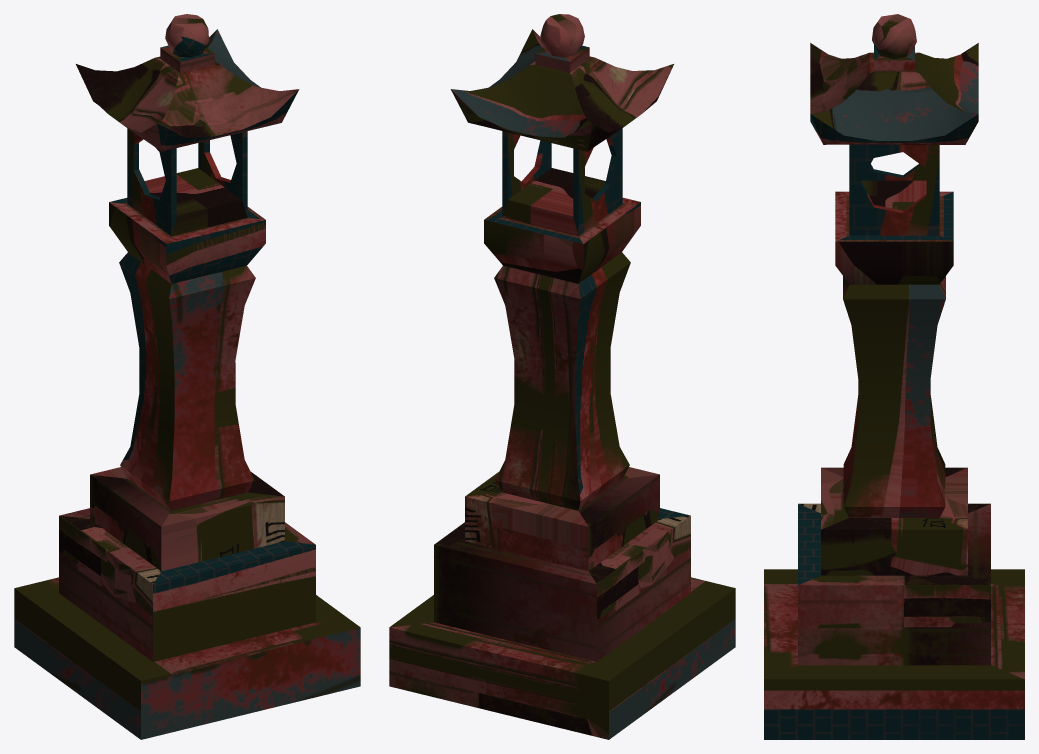
File: PILAR COM LOD.fbx
3 views of the same model, side by side, from view 1: azimuth 30°, elevation 25°; view 2: azimuth 150°, elevation 25°; view 3: azimuth 270°, elevation 25° (orthographic). The views are drawn at different scales.
Visible parts, largest first — view 1: Pilar_LOD0; view 2: Pilar_LOD0; view 3: Pilar_LOD0.
Part boxes in pixels (x1,y1,x2,y2): Pilar_LOD0: (14,14,360,739); Pilar_LOD0: (389,14,735,739); Pilar_LOD0: (764,14,1024,739).
Size of what is drawn, in the model's own units: 76 by 213 by 76.
